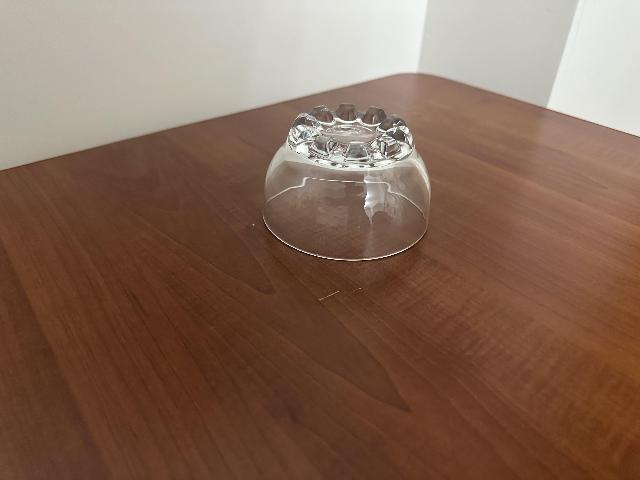Cam: (259, 102, 438, 262)
